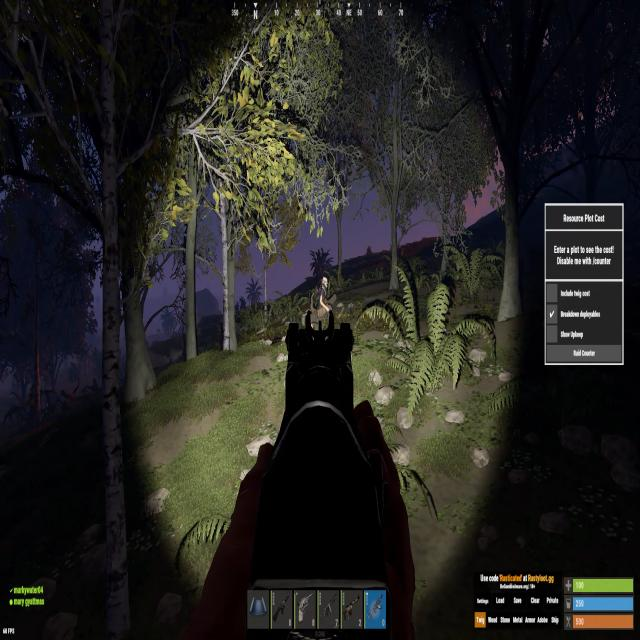Player: (310, 276, 333, 330)
